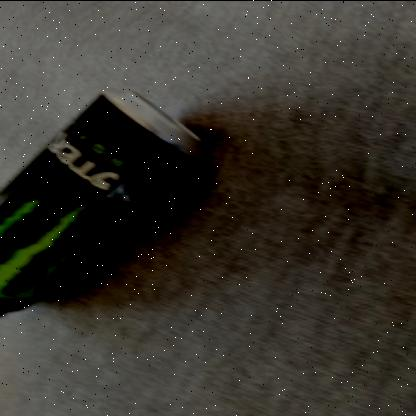Can: (0, 85, 206, 319)
